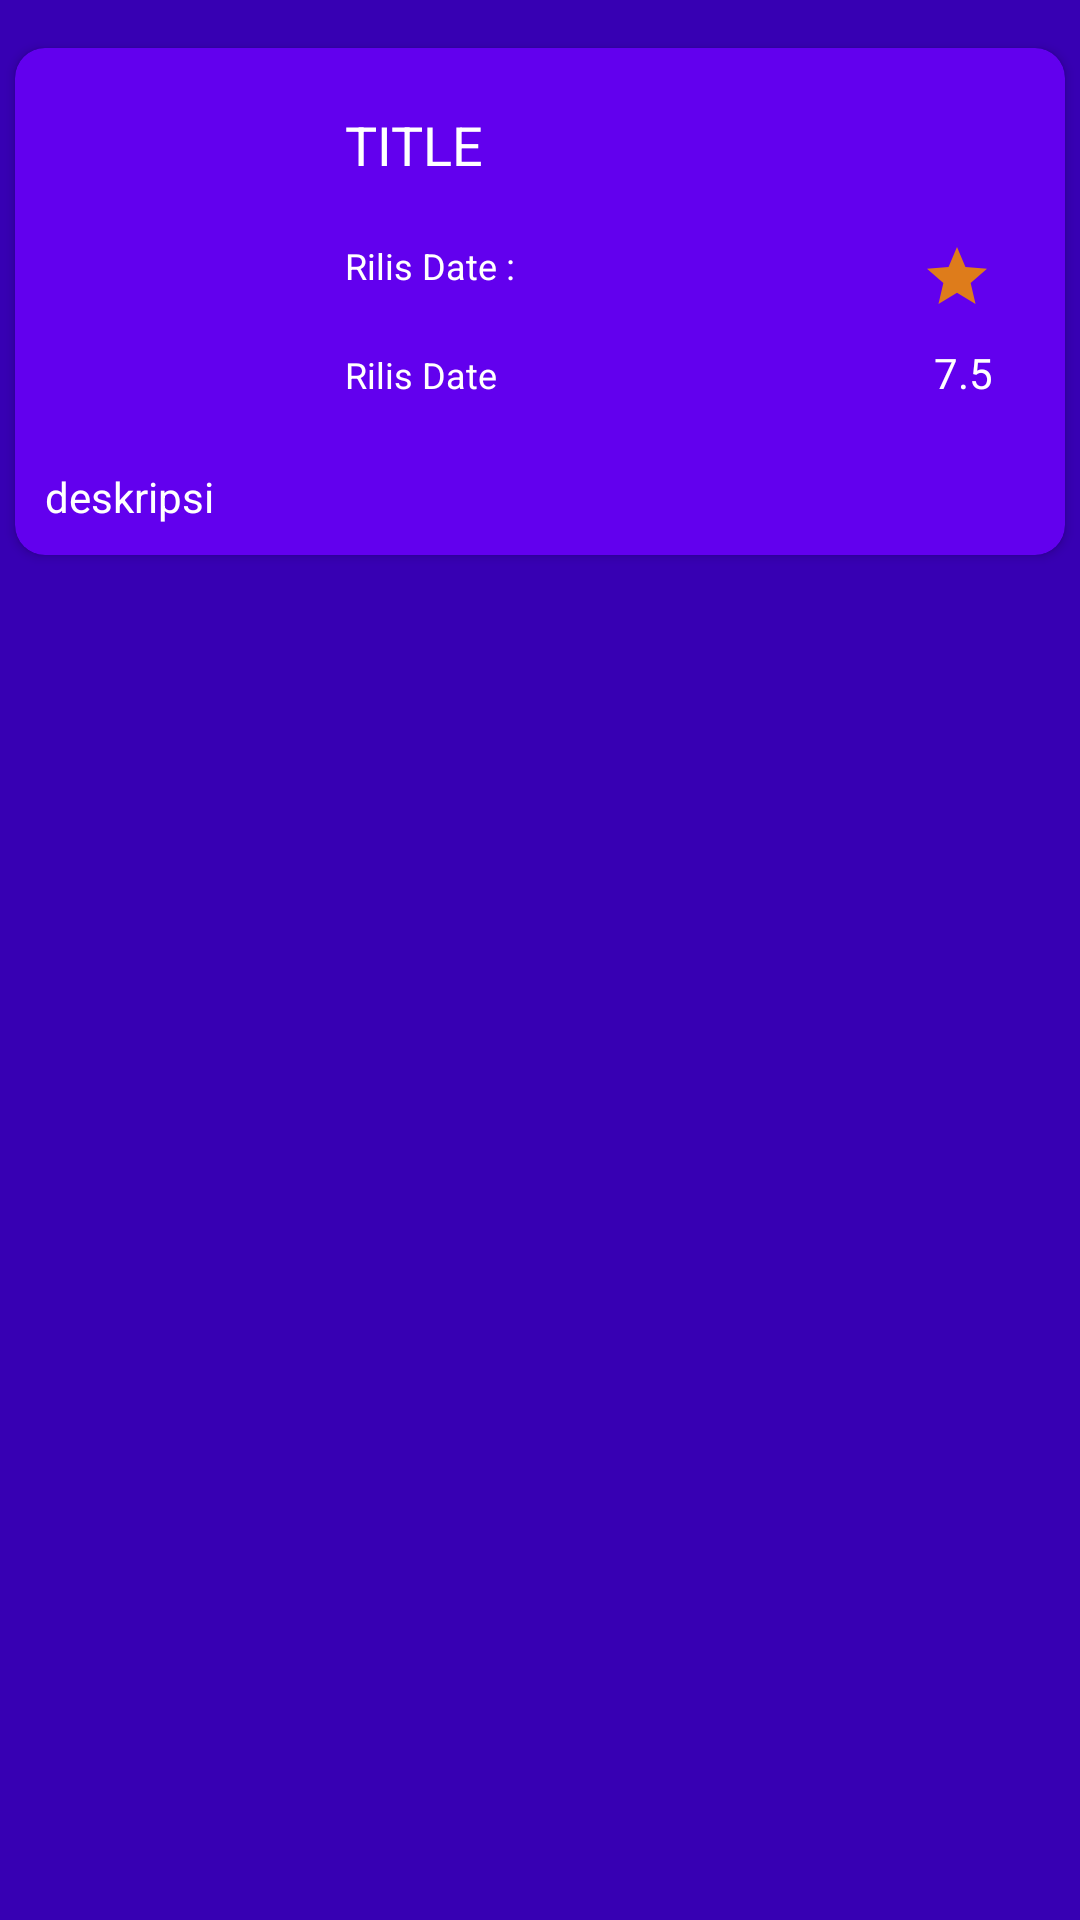

Icons on this 1080*1920 Android screen, each with the point to tap as [x,y]:
star: [957,275]
